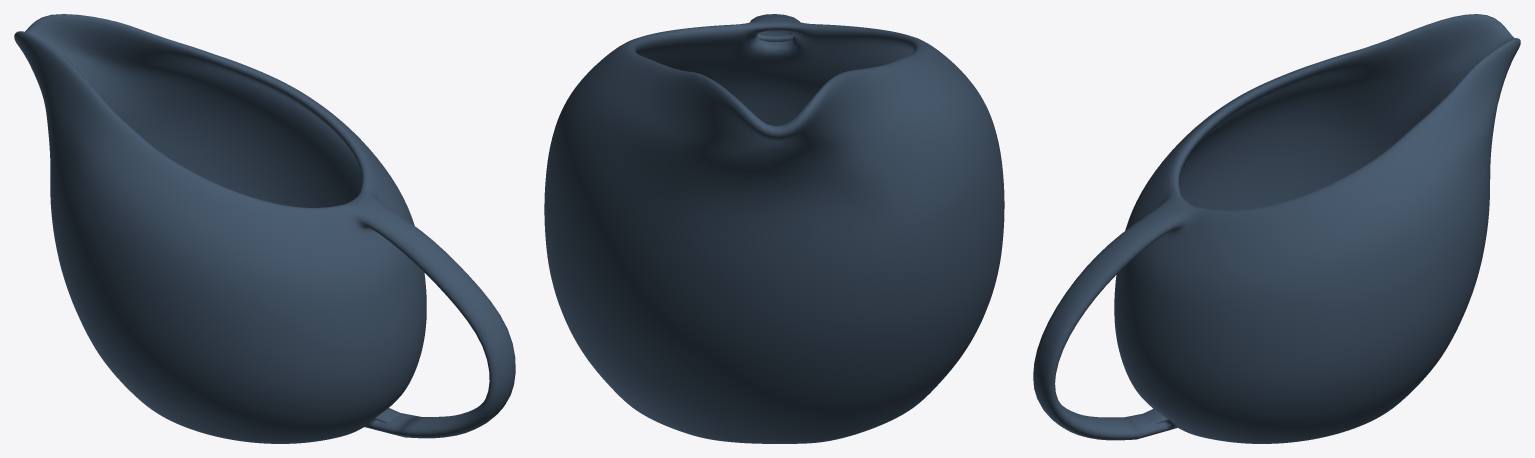
The model's file is single-products-sauce-studio.glb.
The picture shows the model from 3 angles, left to right: view 1: azimuth 30°, elevation 25°; view 2: azimuth 150°, elevation 25°; view 3: azimuth 270°, elevation 25°; orthographic projection. The views are drawn at different scales.
Visible parts, largest first — view 1: Cylinder.007; view 2: Cylinder.007; view 3: Cylinder.007.
Boxes of the visible parts, left/top/right/bottom form: Cylinder.007: left=14, top=14, right=515, bottom=443; Cylinder.007: left=544, top=14, right=1004, bottom=443; Cylinder.007: left=1033, top=14, right=1520, bottom=443.
Bounding box in the file's own units: 0.0806 × 0.0817 × 0.1128.
